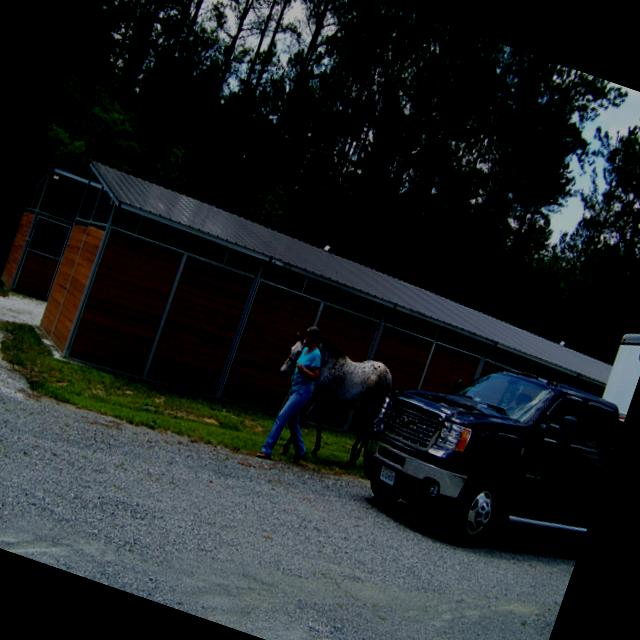Vehicle: (344, 328, 628, 570)
